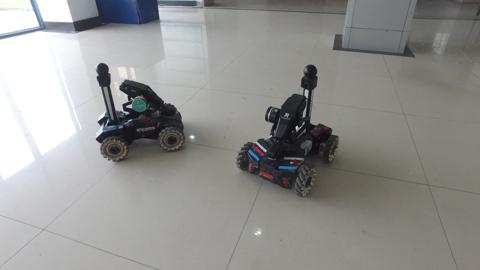chariot: (228, 63, 344, 200), (90, 57, 189, 169)
